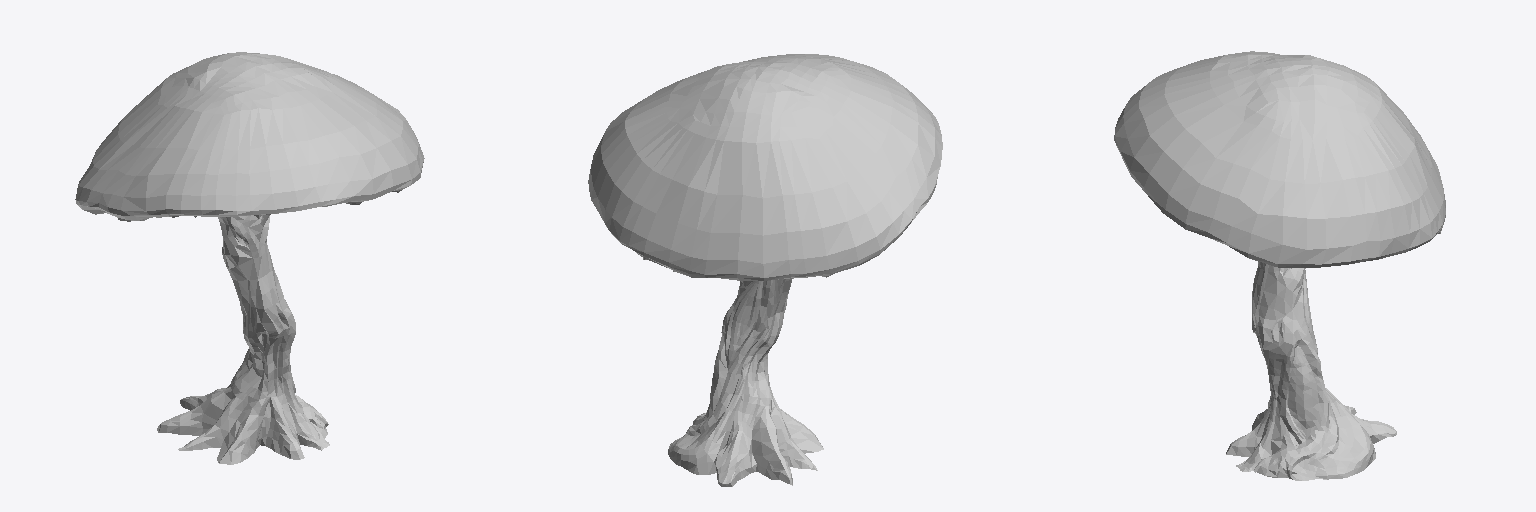
File: mushroom.obj
3 views of the same model, side by side, from view 1: azimuth 30°, elevation 25°; view 2: azimuth 150°, elevation 25°; view 3: azimuth 270°, elevation 25° (orthographic).
Parts seen in each view (by area): view 1: Plane.002; view 2: Plane.002; view 3: Plane.002.
Boxes of the visible parts, <box> form: Plane.002: <box>75,52,424,464</box>; Plane.002: <box>588,54,942,486</box>; Plane.002: <box>1114,51,1445,480</box>.
Bounding box in the file's own units: 1.31 × 1.52 × 1.2.